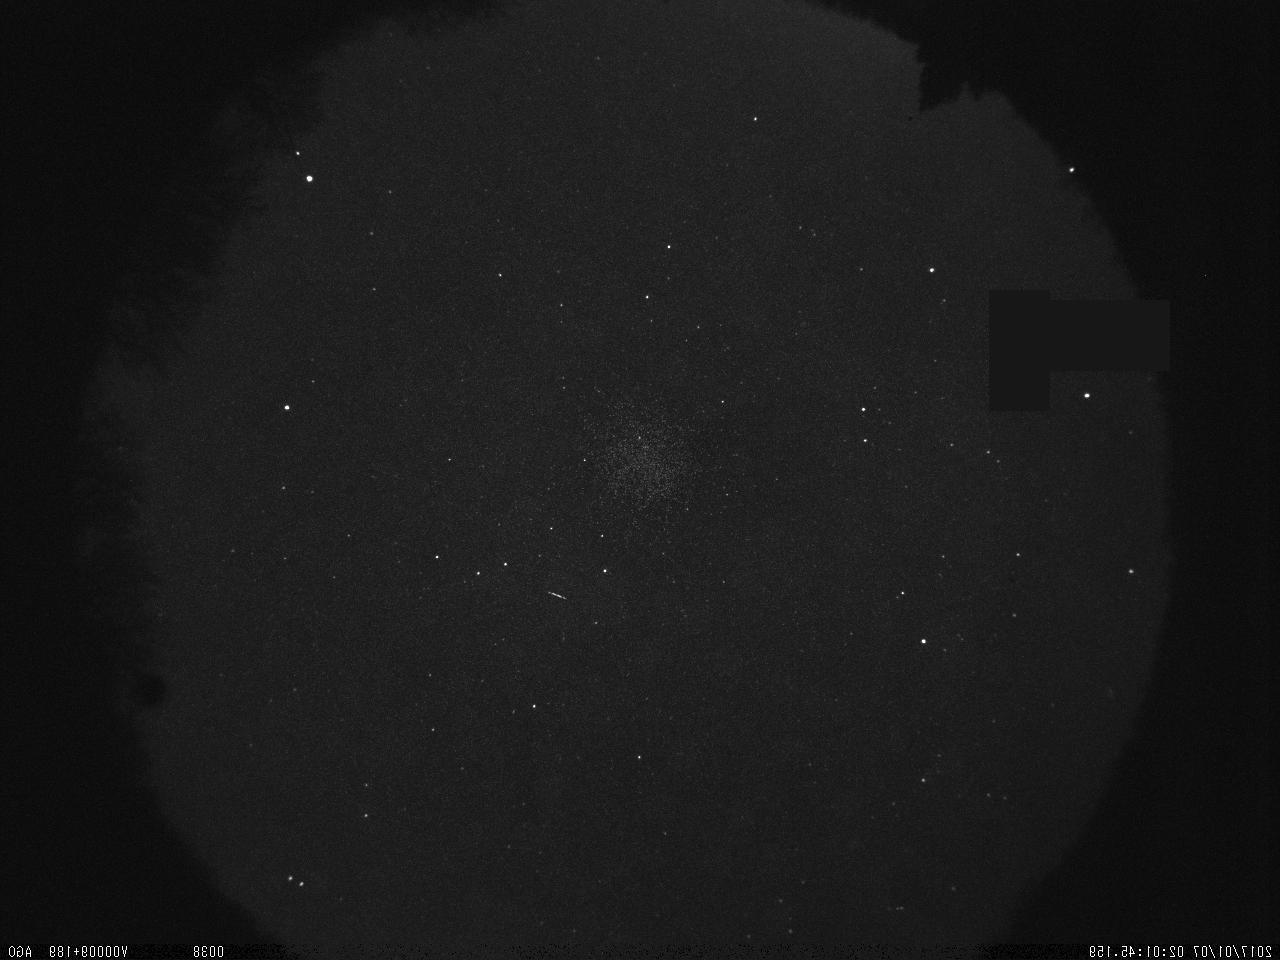meteor: (544, 582, 566, 607)
